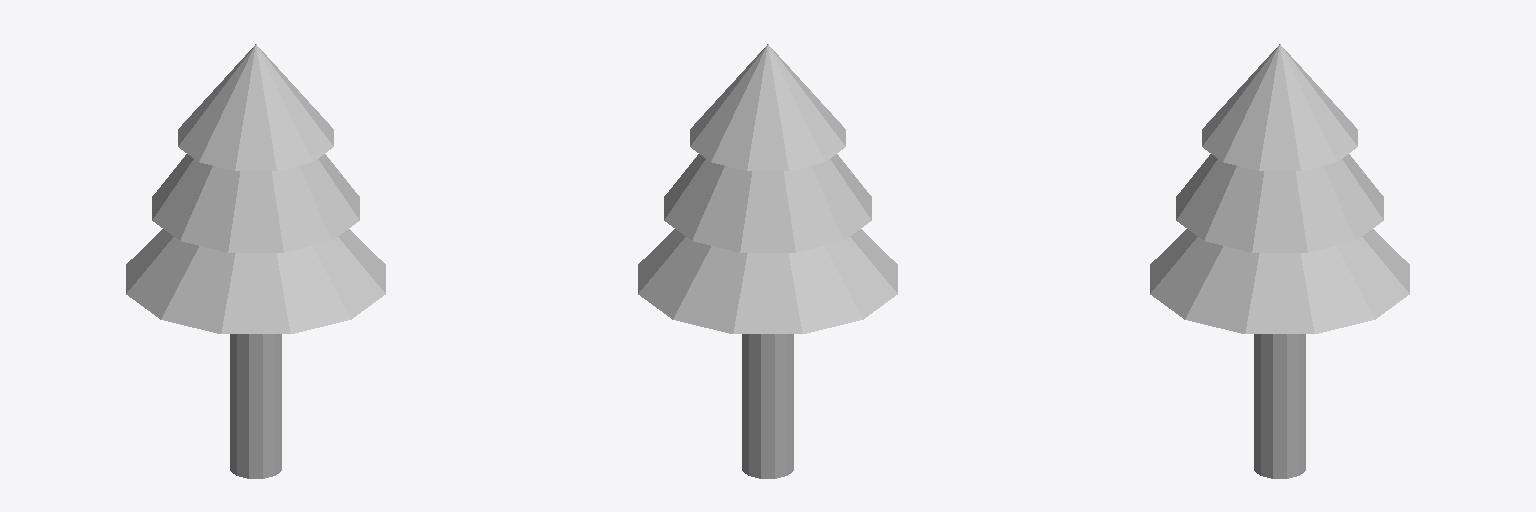
The model's file is tree.obj.
The picture shows the model from 3 angles: view 1: azimuth 30°, elevation 25°; view 2: azimuth 150°, elevation 25°; view 3: azimuth 270°, elevation 25°; orthographic projection.
Parts seen in each view (by area): view 1: cone, cylinder; view 2: cone, cylinder; view 3: cone, cylinder.
Boxes of the visible parts, x1,y1,x2,y2 form: cone: [126, 44, 385, 333]; cylinder: [230, 334, 281, 478]; cone: [638, 44, 897, 333]; cylinder: [742, 334, 793, 478]; cone: [1150, 44, 1409, 333]; cylinder: [1254, 334, 1305, 478].
Bounding box in the file's own units: 0.625 × 1.12 × 0.625.